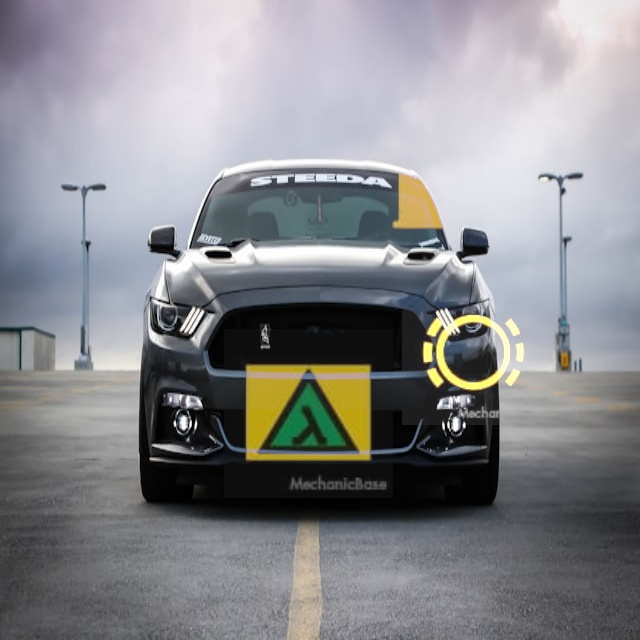symbol: (340, 74, 548, 282), (224, 329, 393, 498), (402, 282, 545, 425)
